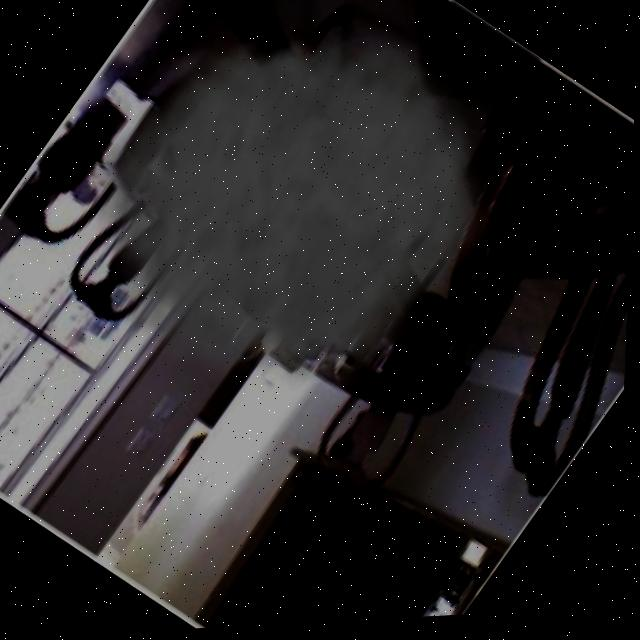Smoke: (10, 0, 582, 495)
